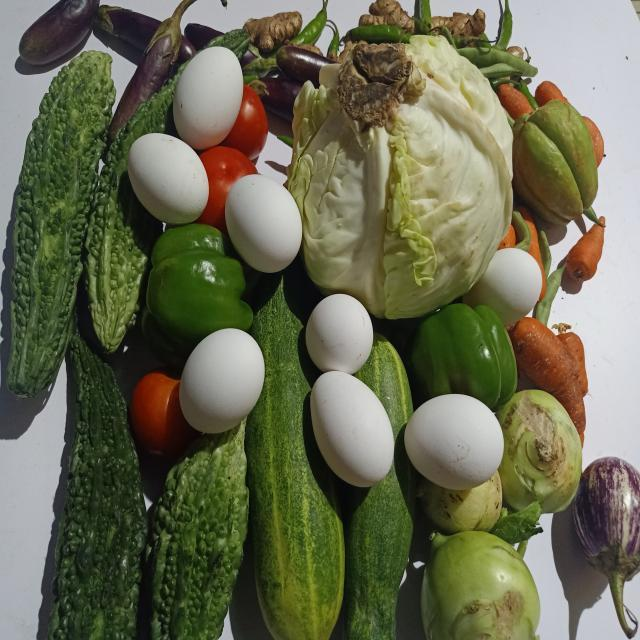Bitter Gourd: (6, 49, 115, 398), (47, 333, 147, 640), (84, 66, 183, 352), (145, 420, 248, 640)
Cabbage: (287, 34, 513, 318)
Carrot: (509, 316, 587, 435), (567, 223, 606, 281)
Chayote: (514, 99, 599, 223)
Cucumber: (245, 271, 345, 640), (344, 333, 417, 640)
Egg: (310, 371, 395, 488), (405, 394, 505, 490), (179, 328, 264, 434), (225, 174, 302, 272), (127, 132, 208, 224), (173, 45, 244, 149), (464, 247, 543, 325), (306, 293, 373, 375)
Eggplant: (575, 457, 640, 639)
Turnip: (422, 532, 541, 640), (499, 390, 583, 513)
